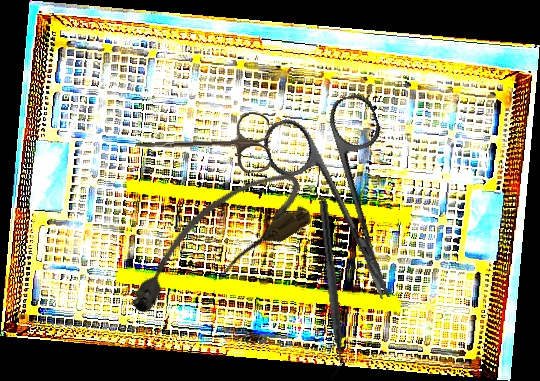Cannula: (109, 158, 320, 326)
Chopper: (307, 200, 349, 380)
Iris Scissors: (258, 89, 436, 320), (133, 111, 272, 179)
